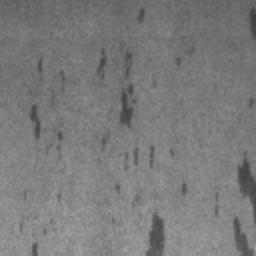Red iron sheet: (95, 5, 256, 256), (29, 105, 64, 141), (248, 5, 256, 40), (37, 55, 45, 74), (31, 242, 40, 256), (246, 97, 256, 109)
